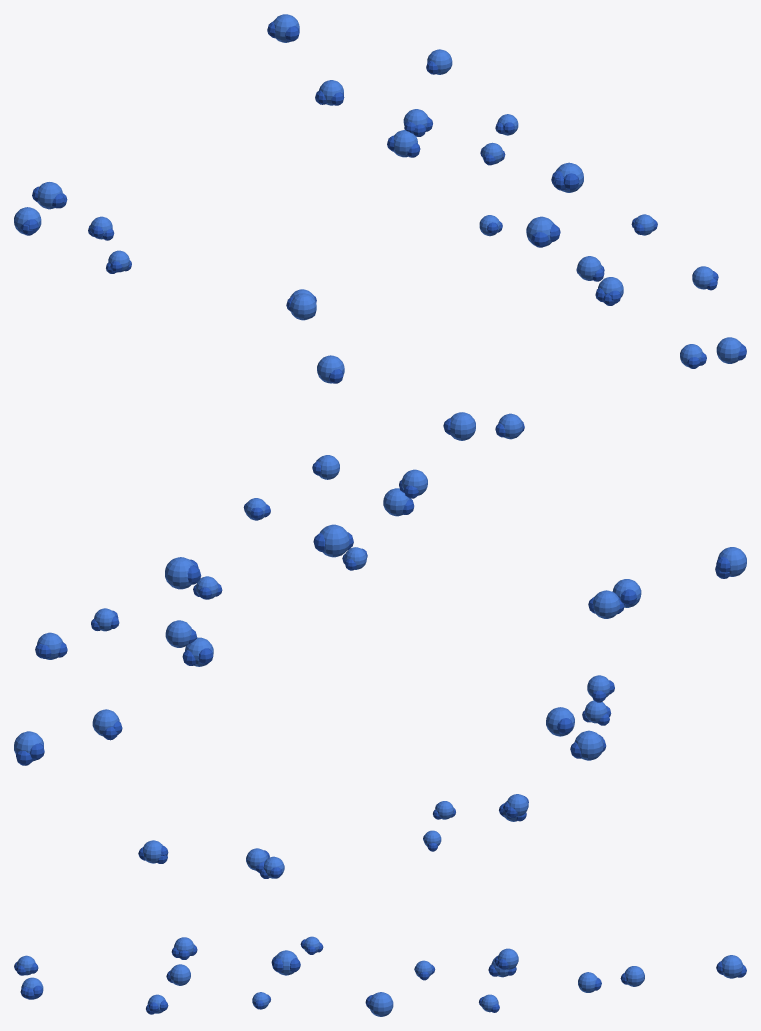
File: CanopyE1.fbx
3 renders of one model, top to bottom at view 1: azimuth 30°, elevation 25°; view 2: azimuth 150°, elevation 25°; view 3: azimuth 270°, elevation 25°, orthographic. The views are drawn at different scales.
Visible parts, largest first — view 1: CanopyE0.001; view 2: CanopyE0.001; view 3: CanopyE0.001.
Boxes of the visible parts, x1,y1,x2,y2 form: CanopyE0.001: (14, 14, 746, 383); CanopyE0.001: (14, 412, 746, 765); CanopyE0.001: (14, 794, 746, 1016).
Size of the model in its own units: 18309 by 2141 by 28949.
